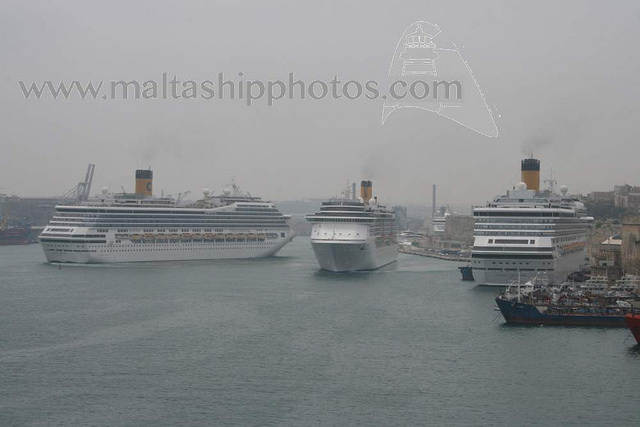cruise_ship: (45, 165, 294, 267), (470, 158, 588, 280), (304, 169, 405, 272)
